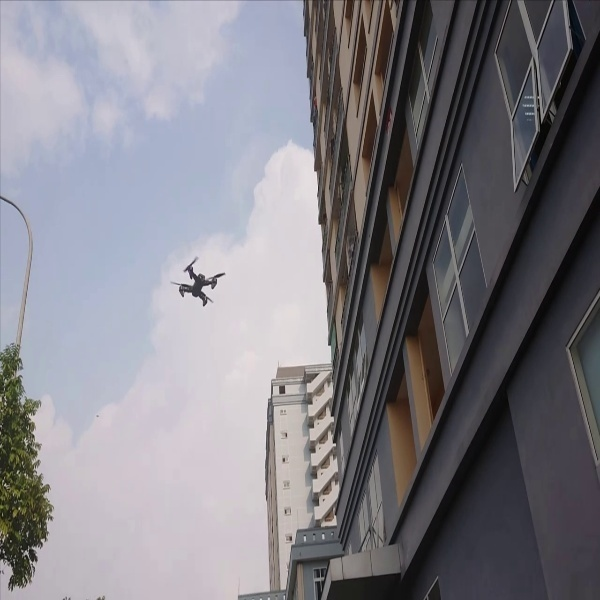drone: (168, 252, 229, 314)
